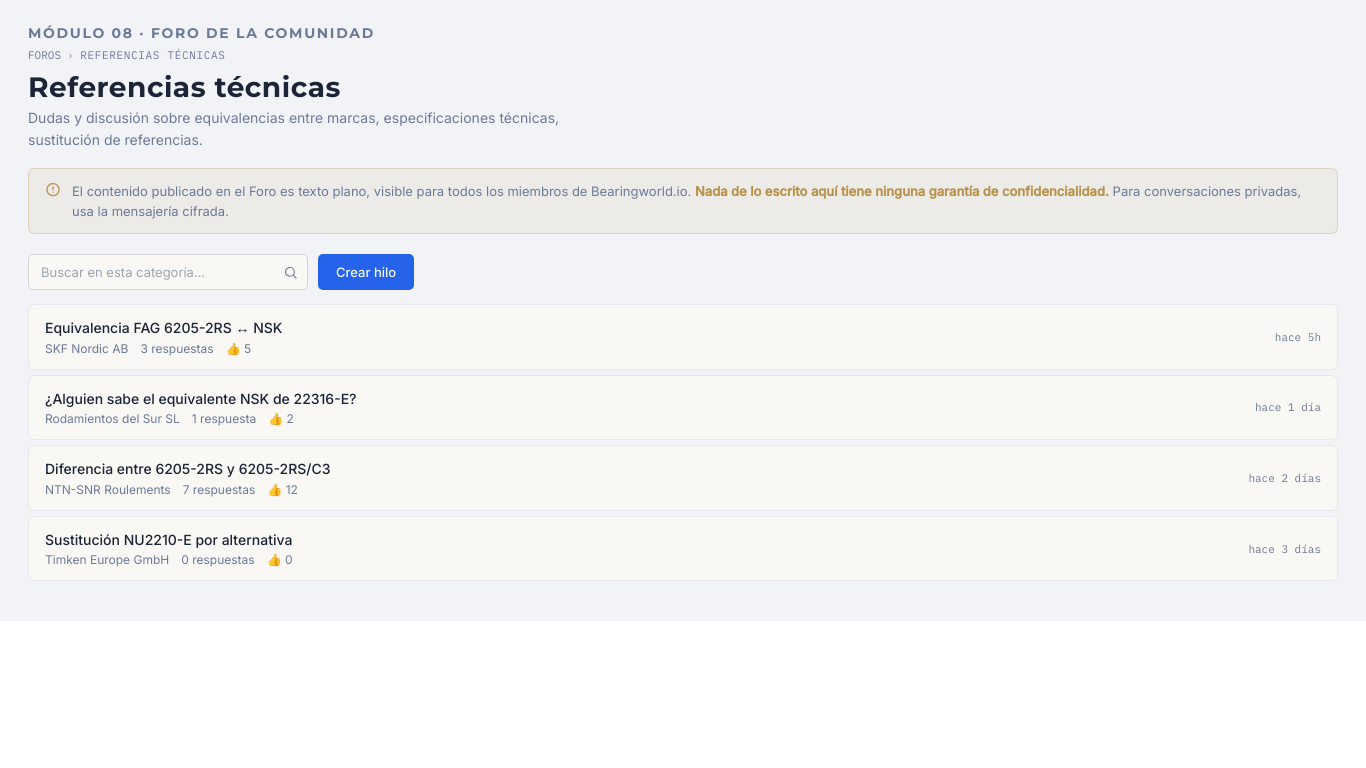
Test: FORO-02 · la búsqueda (spec §3, §7) › la "x" del campo aparece al escribir y borra solo el borrador, sin consultar
This screenshot has width=1366, height=768.
Expected: the button "Equivalencia FAG 6205-2RS ↔ NSK" is shown, [45,318,282,338]
Type "NSK" into the search field with placeholder "Buscar en esta categoría..." at (168, 272), box [28,254,308,290]
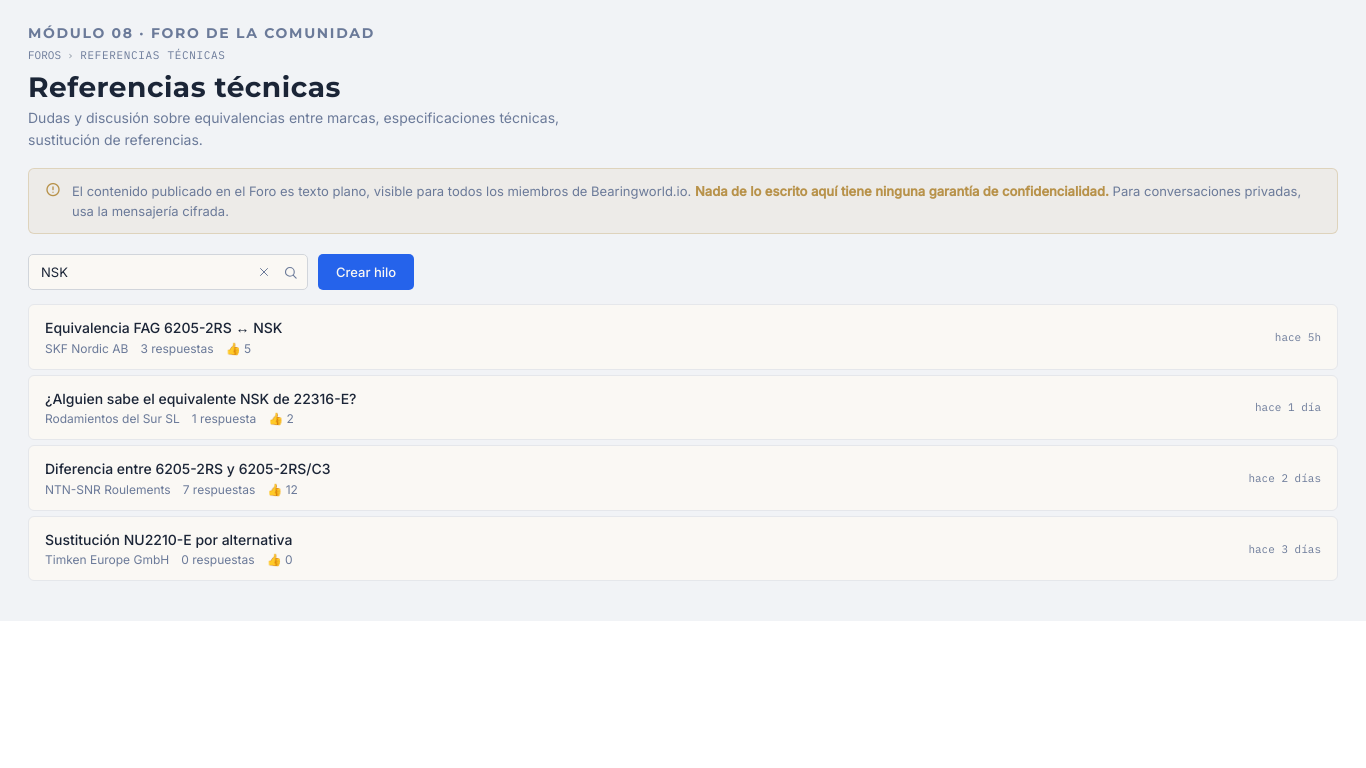
Click the button named "Borrar búsqueda" at (264, 272), box [252,260,276,284]
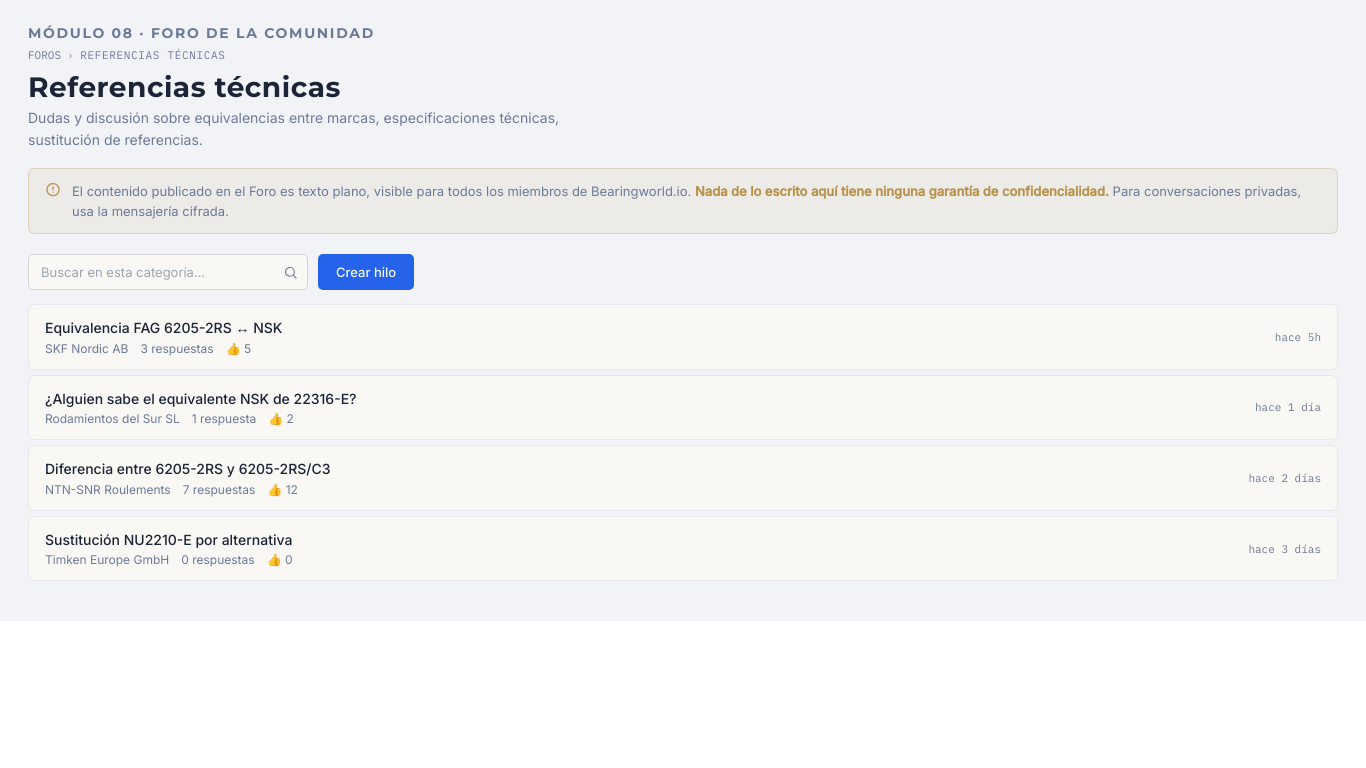
Expected: the search field with placeholder "Buscar en esta categoría..." is empty, [28,254,308,290]
